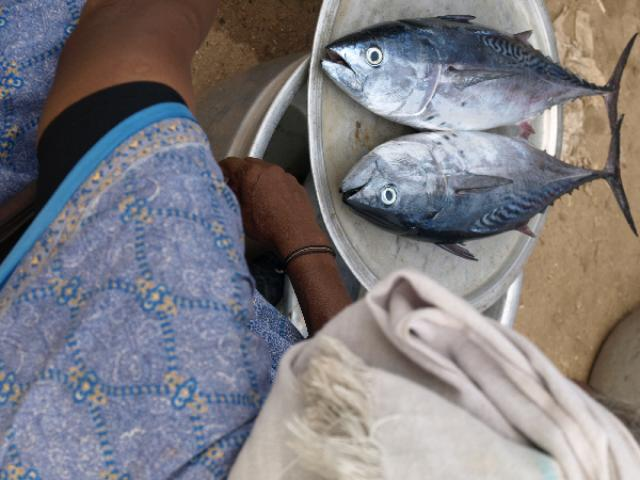Mulut: (312, 32, 346, 96), (328, 168, 368, 216)
Sirip Dada: (444, 58, 526, 94), (448, 163, 528, 199)
Sirip Ekor: (596, 104, 640, 238), (594, 27, 636, 140)
Sirip Punggung: (430, 218, 548, 268), (438, 10, 542, 44)
